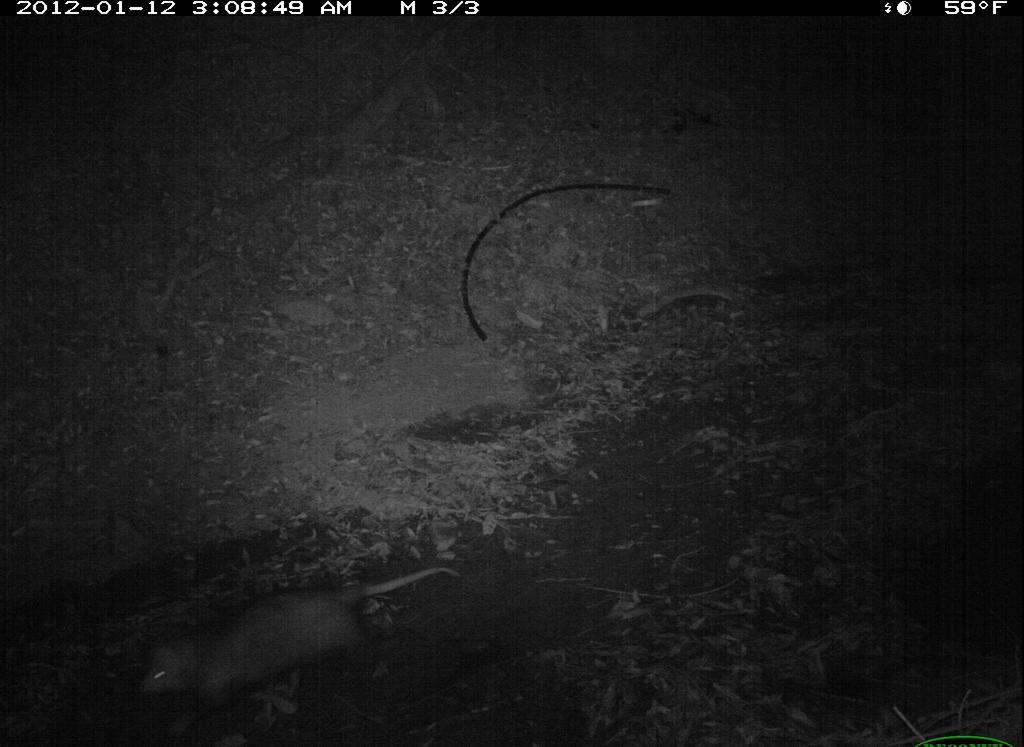opossum: (135, 542, 464, 726)
